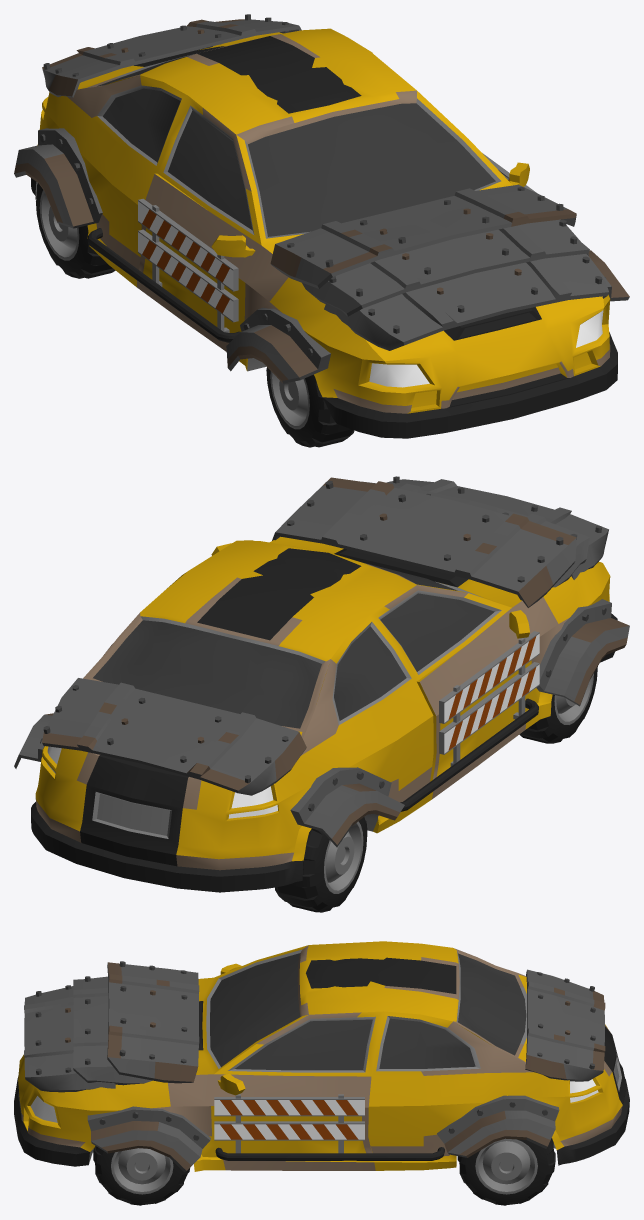
Rendered from quaternius-zombie-apocalypse-kit-march-vehicle-sports-armored.glb.
3 renders of one model, top to bottom at view 1: azimuth 30°, elevation 25°; view 2: azimuth 150°, elevation 25°; view 3: azimuth 270°, elevation 25°, orthographic. The views are drawn at different scales.
Parts seen in each view (by area): view 1: Sports_Armored; view 2: Sports_Armored; view 3: Sports_Armored.
Part boxes in pixels (<box>): Sports_Armored: <box>14,14,629,447</box>; Sports_Armored: <box>14,476,629,912</box>; Sports_Armored: <box>14,941,629,1205</box>.
Size of the model in its own units: 2.95 by 1.86 by 5.66.
2 materials, 1 textured.
